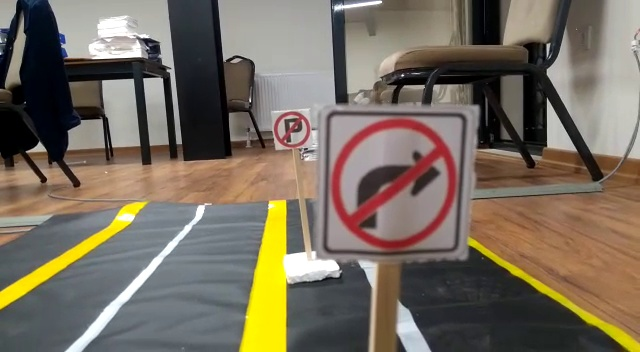park_yapilmaz: (268, 109, 315, 147)
saga_donulmez: (326, 111, 466, 257)
